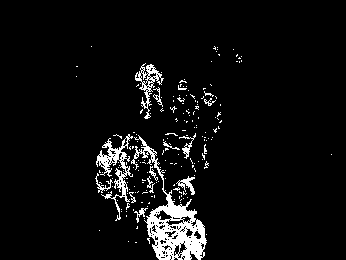person: (149, 181, 206, 260), (156, 130, 196, 221), (97, 132, 129, 223), (125, 133, 156, 225), (199, 84, 222, 172), (132, 57, 164, 119), (174, 78, 197, 161)
